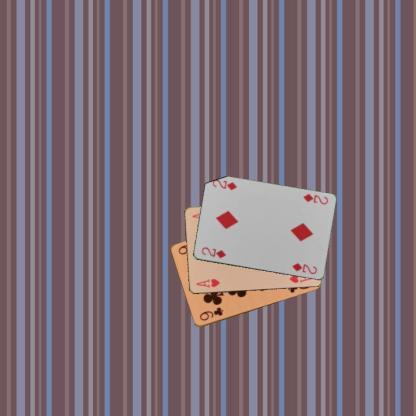2d: (198, 244, 228, 260), (300, 191, 329, 206)
9c: (197, 304, 224, 322)
Ah: (194, 276, 221, 290)
